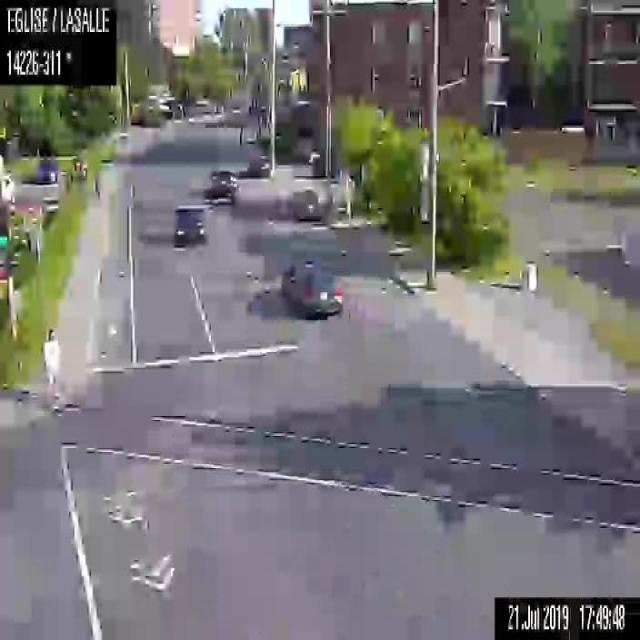pedestrian: (42, 326, 57, 394)
vehicle: (279, 256, 343, 317), (172, 204, 204, 243), (203, 168, 238, 203), (285, 187, 320, 220), (246, 152, 269, 173), (37, 159, 58, 182)
